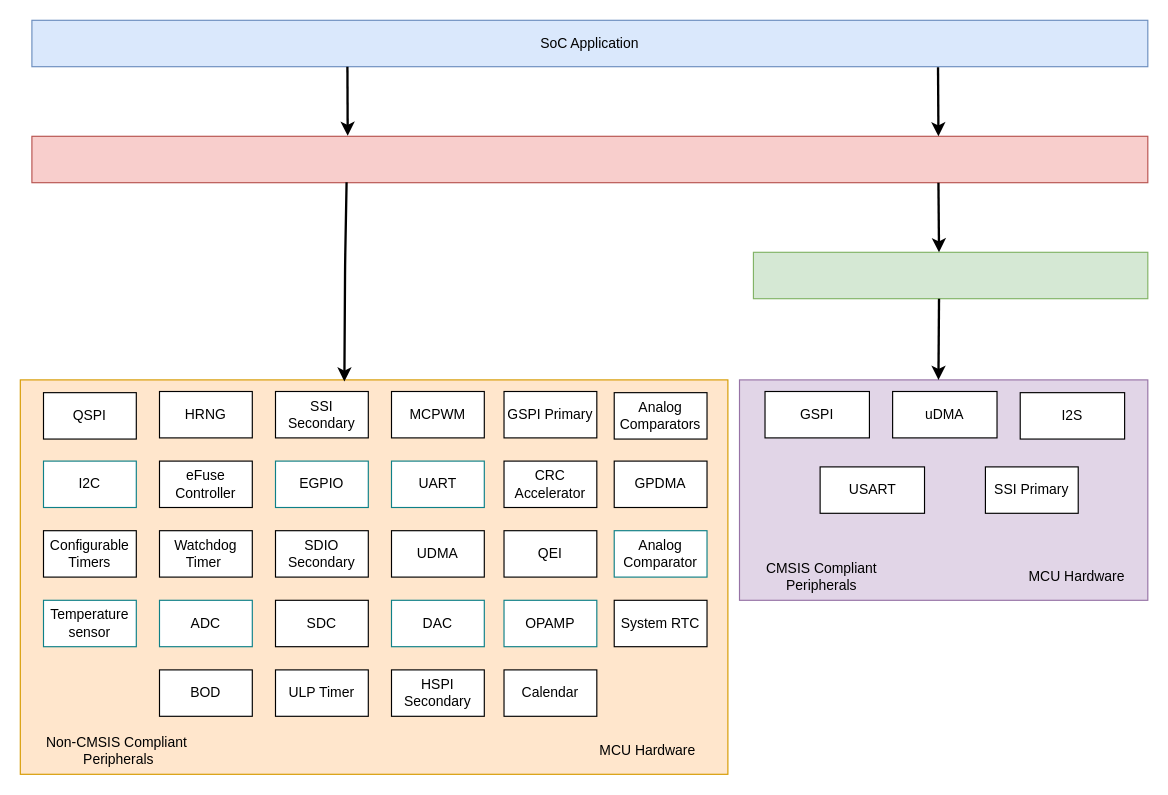
Some shapes in this 1168 by 795 pixel diagram are drawn without their labels. Each missing label, with the box of its shape:
CMSIS Driver: (752, 251, 1148, 299)
Unified API: (31, 135, 1148, 183)
